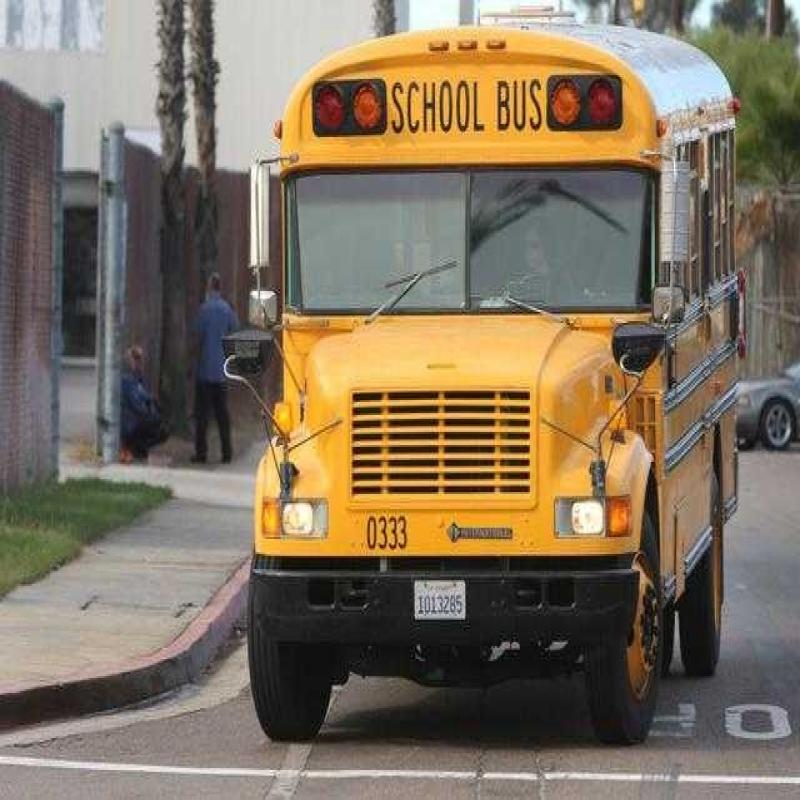bus: (242, 7, 732, 759)
